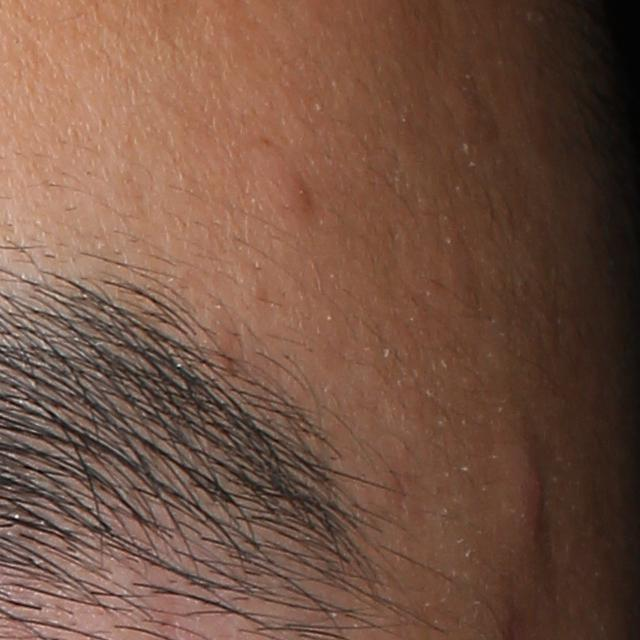papule: (512, 446, 560, 531), (265, 165, 314, 221)
